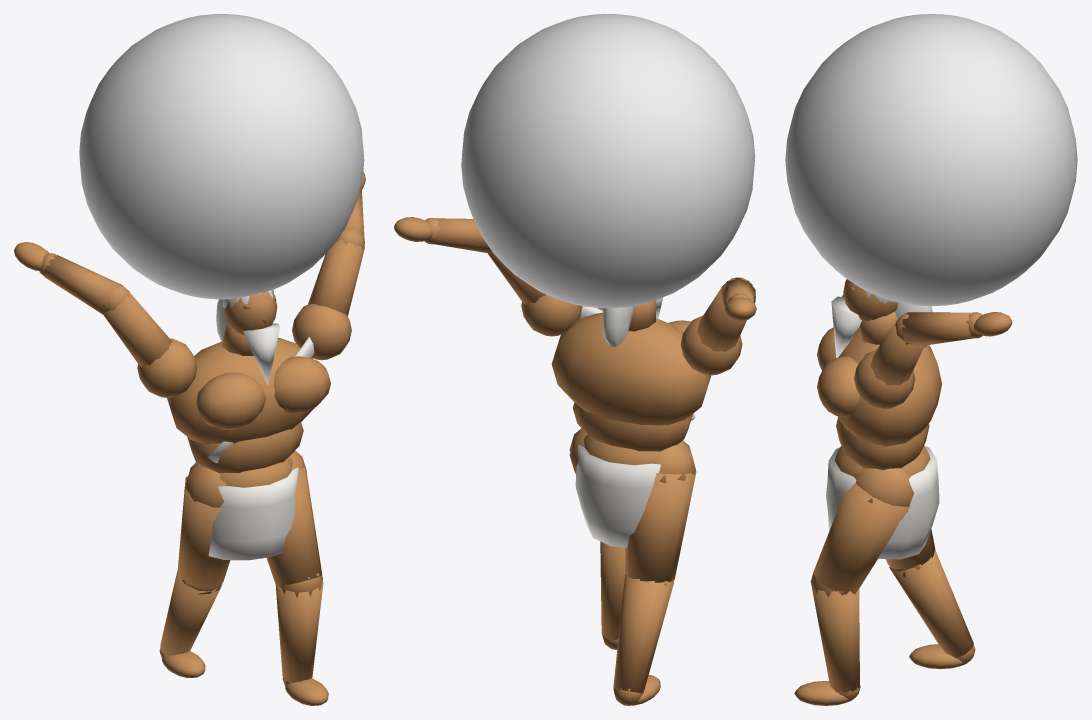
File: atlas.glb
The picture shows the model from 3 angles, left to right: view 1: azimuth 30°, elevation 25°; view 2: azimuth 150°, elevation 25°; view 3: azimuth 270°, elevation 25°; orthographic projection. The views are drawn at different scales.
Parts seen in each view (by area): view 1: torso, pelvis, upperarm_L, upperarm_R, thigh_R, shin_L, thigh_L, head, shin_R, forearm_R, foot_L, foot_R (+2 smaller); view 2: torso, pelvis, thigh_R, shin_R, upperarm_R, upperarm_L, shin_L, forearm_L, head, hand_L, forearm_R, hand_R; view 3: torso, thigh_L, pelvis, shin_L, shin_R, upperarm_L, head, forearm_L, foot_L, foot_R, hand_L, thigh_R.
Part boxes in pixels (x1,y1,x2,y2): torso: (79,14,364,473); pelvis: (194,456,298,560); upperarm_L: (292,231,364,360); upperarm_R: (102,291,197,397); thigh_R: (178,462,230,588); shin_L: (275,574,323,685); thigh_L: (266,450,322,594); head: (216,289,279,384); shin_R: (159,569,222,657); forearm_R: (39,253,129,314); foot_L: (285,678,328,705); foot_R: (162,651,205,677); torso: (461,14,755,451); pelvis: (575,434,684,547); thigh_R: (625,440,696,582); shin_R: (613,575,674,705); upperarm_R: (680,283,755,375); upperarm_L: (488,253,582,336); shin_L: (600,541,625,649); forearm_L: (424,218,493,253); head: (602,297,662,347); hand_L: (394,217,432,241); forearm_R: (720,277,755,307); hand_R: (724,297,756,320); torso: (785,14,1077,470); thigh_L: (811,468,913,595); pelvis: (826,445,939,559); shin_L: (810,573,860,699); shin_R: (889,550,975,663); upperarm_L: (854,319,924,409); head: (831,279,932,358); forearm_L: (895,312,982,347); foot_L: (794,681,852,705); foot_R: (909,644,967,669); hand_L: (974,312,1012,336); thigh_R: (886,529,935,577).
Bounding box in the file's own units: 7.55 × 13.42 × 5.4.
